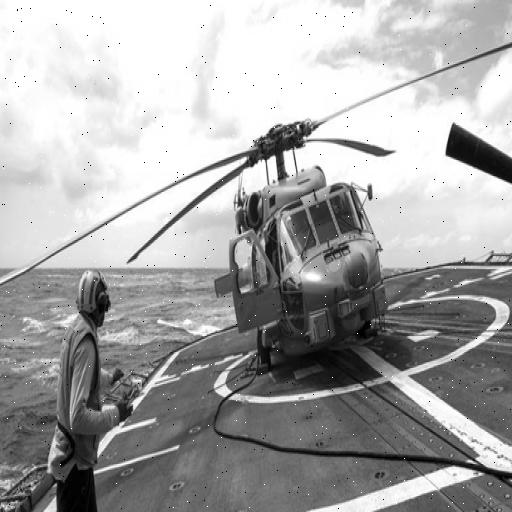helicopter: (1, 27, 512, 413)
